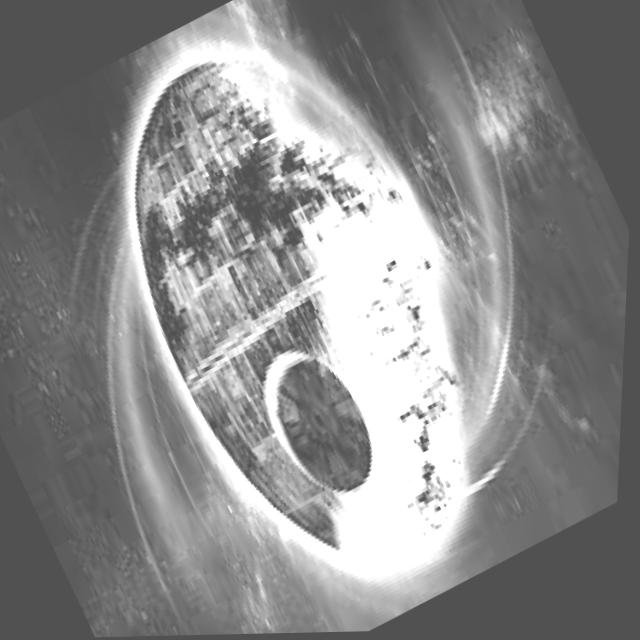death-stars: (132, 60, 470, 562)
